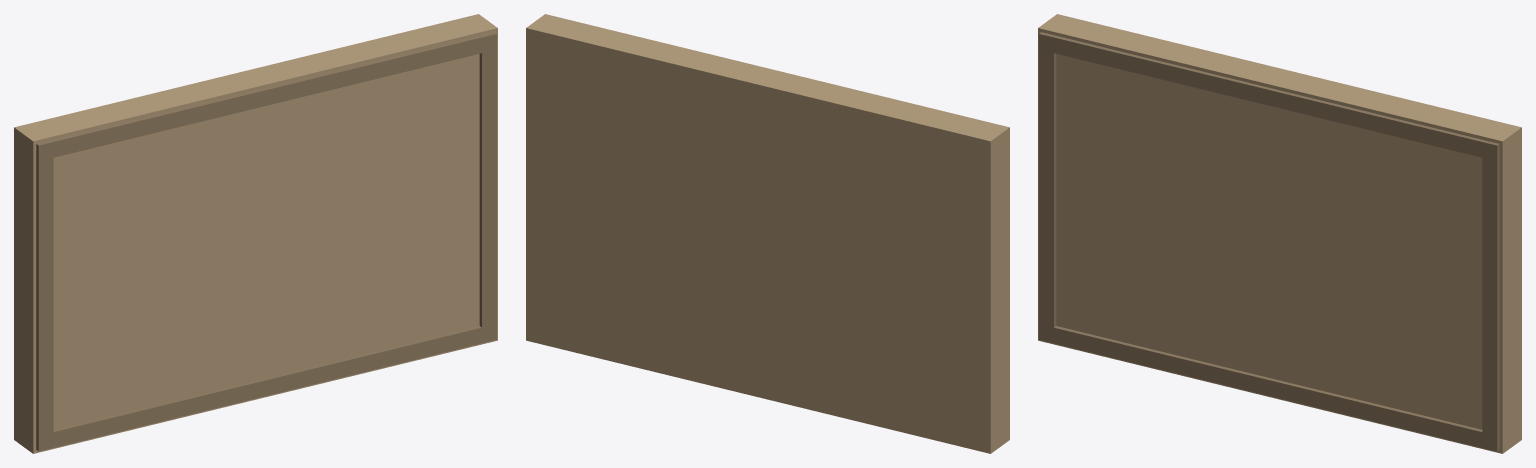
The model's file is sign_spruce_wall.gltf.
3 views of the same model, side by side, from view 1: azimuth 30°, elevation 25°; view 2: azimuth 150°, elevation 25°; view 3: azimuth 330°, elevation 25° (orthographic).
Parts seen in each view (by area): view 1: sign_spruce_wall; view 2: sign_spruce_wall; view 3: sign_spruce_wall.
Part boxes in pixels (left/top/right/bottom): sign_spruce_wall: left=14, top=14, right=497, bottom=453; sign_spruce_wall: left=526, top=14, right=1009, bottom=453; sign_spruce_wall: left=1038, top=14, right=1521, bottom=453.
Bounding box in the file's own units: 0.875 × 0.5625 × 0.07.
